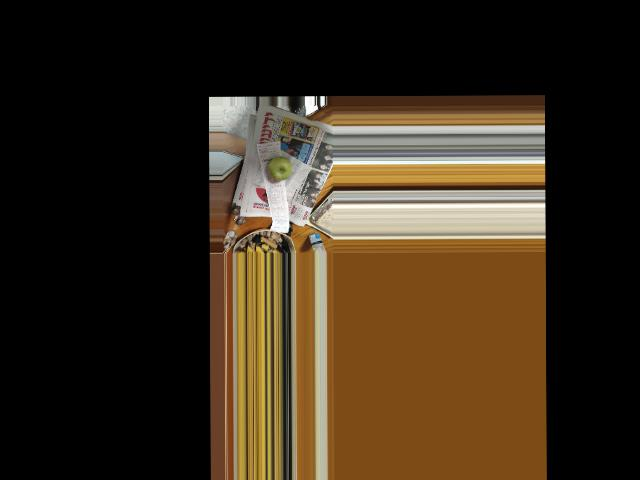apple: (266, 152, 293, 182)
